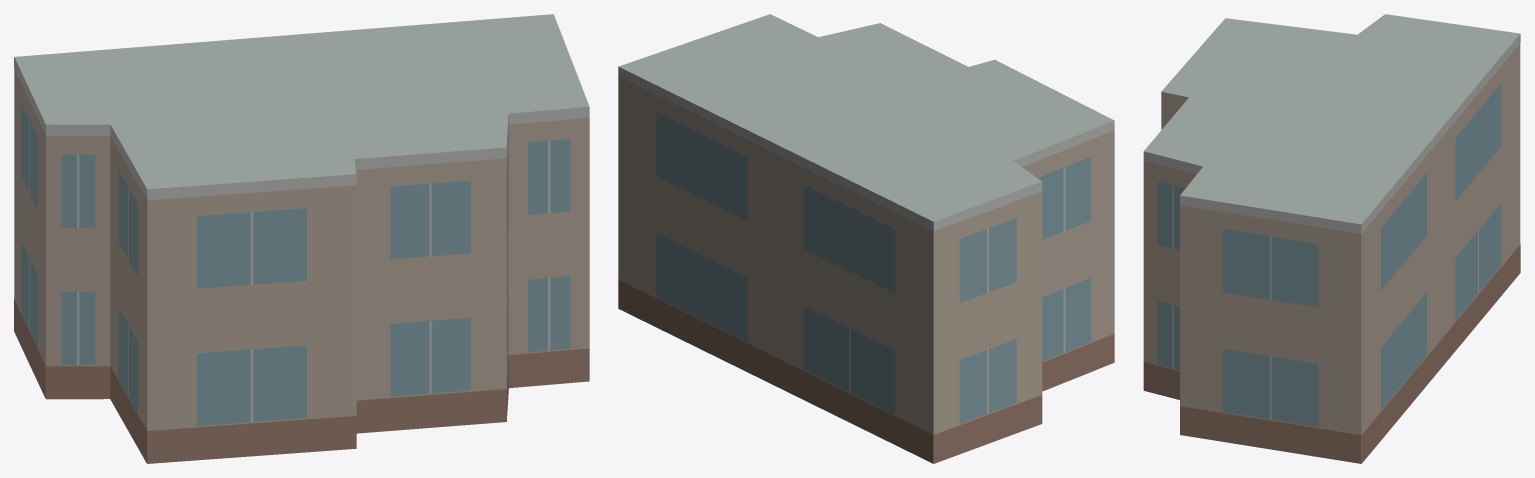
The model's file is survey-upis-32878289.glb.
3 views of the same model, side by side, from view 1: azimuth 30°, elevation 25°; view 2: azimuth 150°, elevation 25°; view 3: azimuth 270°, elevation 25° (orthographic). The views are drawn at different scales.
Visible parts, largest first — view 1: survey-upis-32878289.tmp; view 2: survey-upis-32878289.tmp; view 3: survey-upis-32878289.tmp.
Part boxes in pixels (left/top/right/bottom): survey-upis-32878289.tmp: left=14, top=14, right=589, bottom=463; survey-upis-32878289.tmp: left=618, top=14, right=1114, bottom=463; survey-upis-32878289.tmp: left=1143, top=14, right=1520, bottom=463.
Size of the model in its own units: 11.51 by 6.1 by 8.71.
